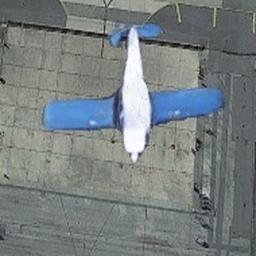Airplane: (42, 16, 224, 174)
